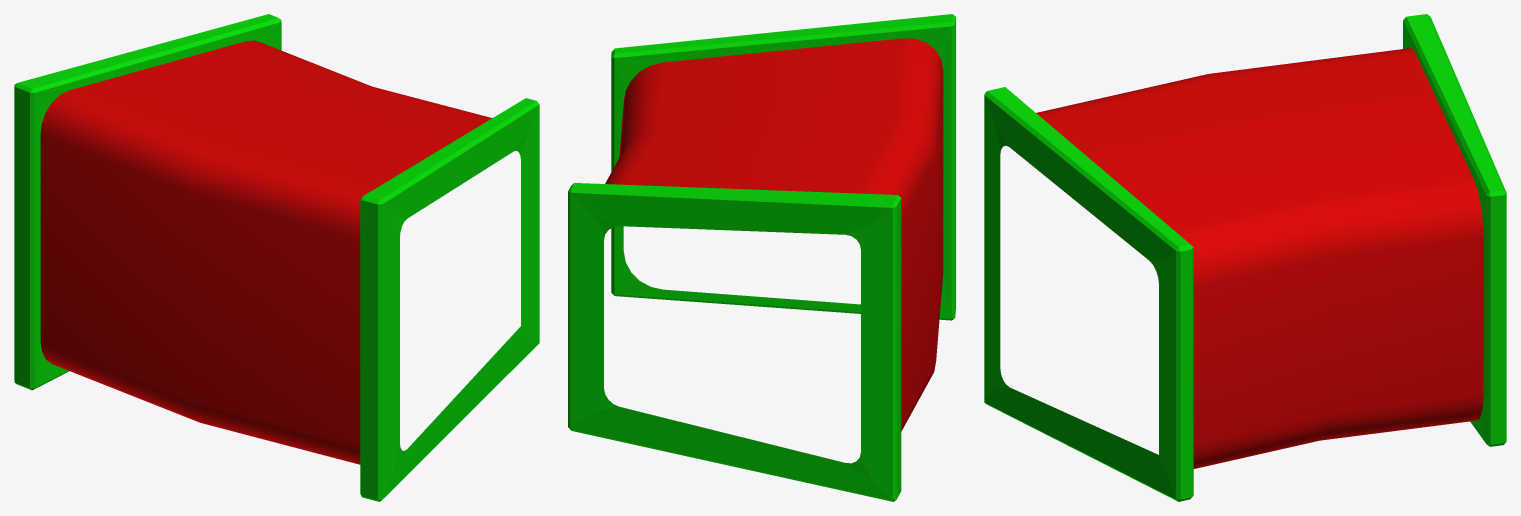
File: acc_coil.glb
The picture shows the model from 3 angles, left to right: view 1: azimuth 30°, elevation 25°; view 2: azimuth 150°, elevation 25°; view 3: azimuth 270°, elevation 25°; orthographic projection. The views are drawn at different scales.
Visible parts, largest first — view 1: arc_reactor_mk1_acc_coil; view 2: arc_reactor_mk1_acc_coil; view 3: arc_reactor_mk1_acc_coil.
Boxes of the visible parts, <box> form: arc_reactor_mk1_acc_coil: <box>14,14,539,501</box>; arc_reactor_mk1_acc_coil: <box>568,14,955,501</box>; arc_reactor_mk1_acc_coil: <box>984,14,1506,501</box>.
Bounding box in the file's own units: 0.3996 × 0.2836 × 0.4279.
